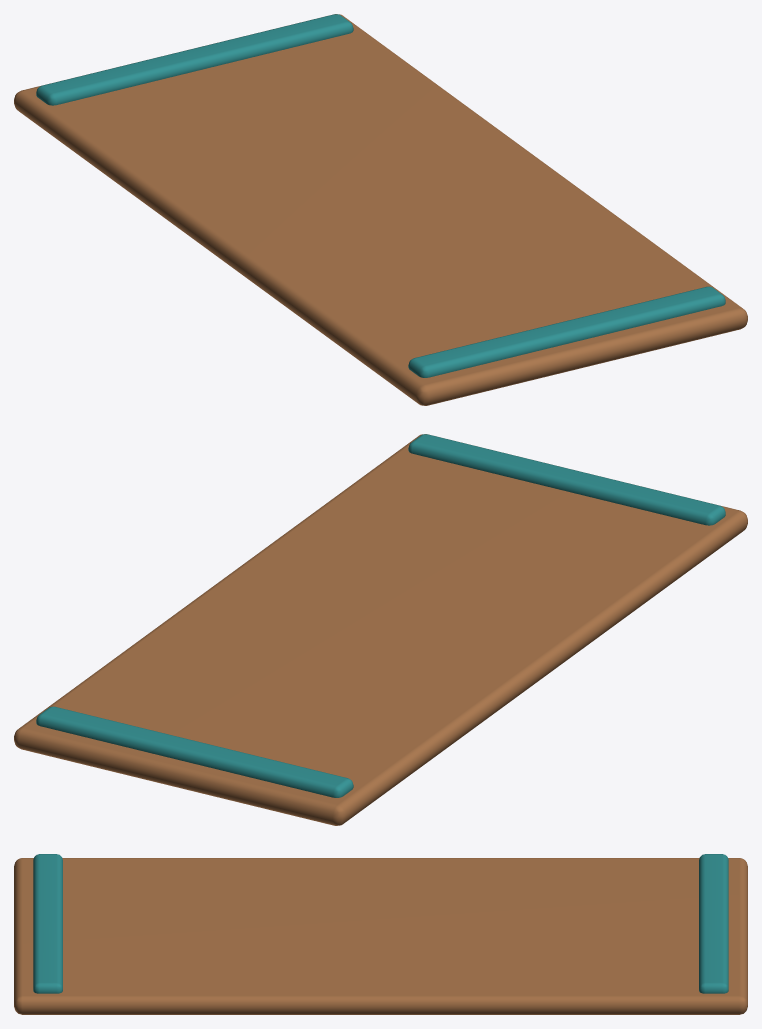
File: IntroTrayDock.fbx
The picture shows the model from 3 angles, top to bottom: view 1: azimuth 30°, elevation 25°; view 2: azimuth 150°, elevation 25°; view 3: azimuth 270°, elevation 25°; orthographic projection. The views are drawn at different scales.
Parts seen in each view (by area): view 1: RoundedLandingBoard, SoftEdgeBand.001, SoftEdgeBand; view 2: RoundedLandingBoard, SoftEdgeBand, SoftEdgeBand.001; view 3: RoundedLandingBoard, SoftEdgeBand, SoftEdgeBand.001.
Part boxes in pixels (left/top/right/bottom): RoundedLandingBoard: left=14, top=14, right=747, bottom=405; SoftEdgeBand.001: left=36, top=14, right=353, bottom=105; SoftEdgeBand: left=408, top=286, right=725, bottom=377; RoundedLandingBoard: left=14, top=434, right=747, bottom=825; SoftEdgeBand: left=408, top=434, right=725, bottom=525; SoftEdgeBand.001: left=36, top=706, right=353, bottom=797; RoundedLandingBoard: left=14, top=858, right=747, bottom=1014; SoftEdgeBand: left=33, top=854, right=62, bottom=993; SoftEdgeBand.001: left=699, top=854, right=728, bottom=993.
Size of the model in its own units: 40 by 3.5 by 86.
